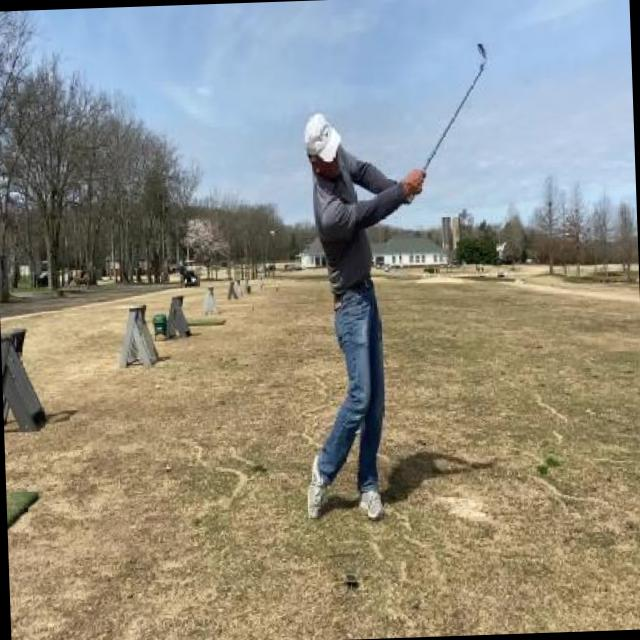club head: (476, 44, 488, 70)
